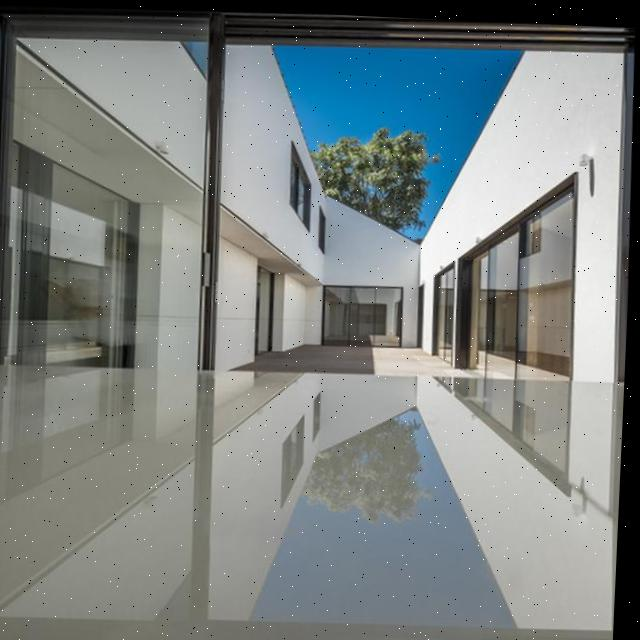building: (208, 34, 438, 379)
